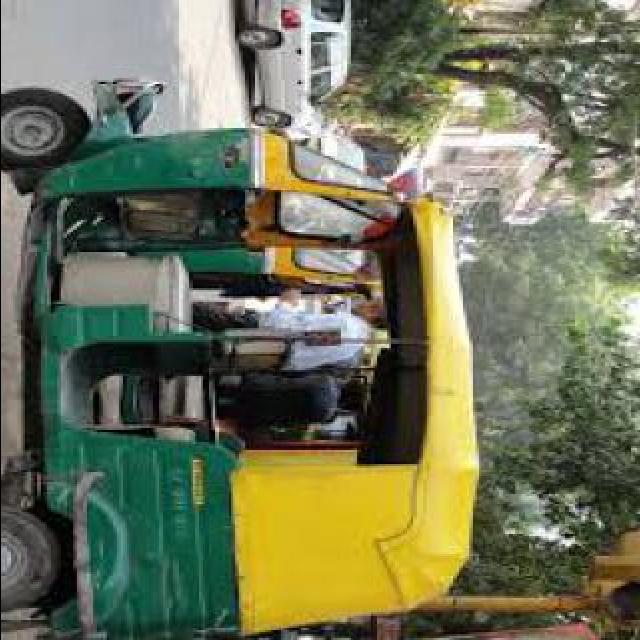Autorickshaw: (0, 102, 454, 640)
